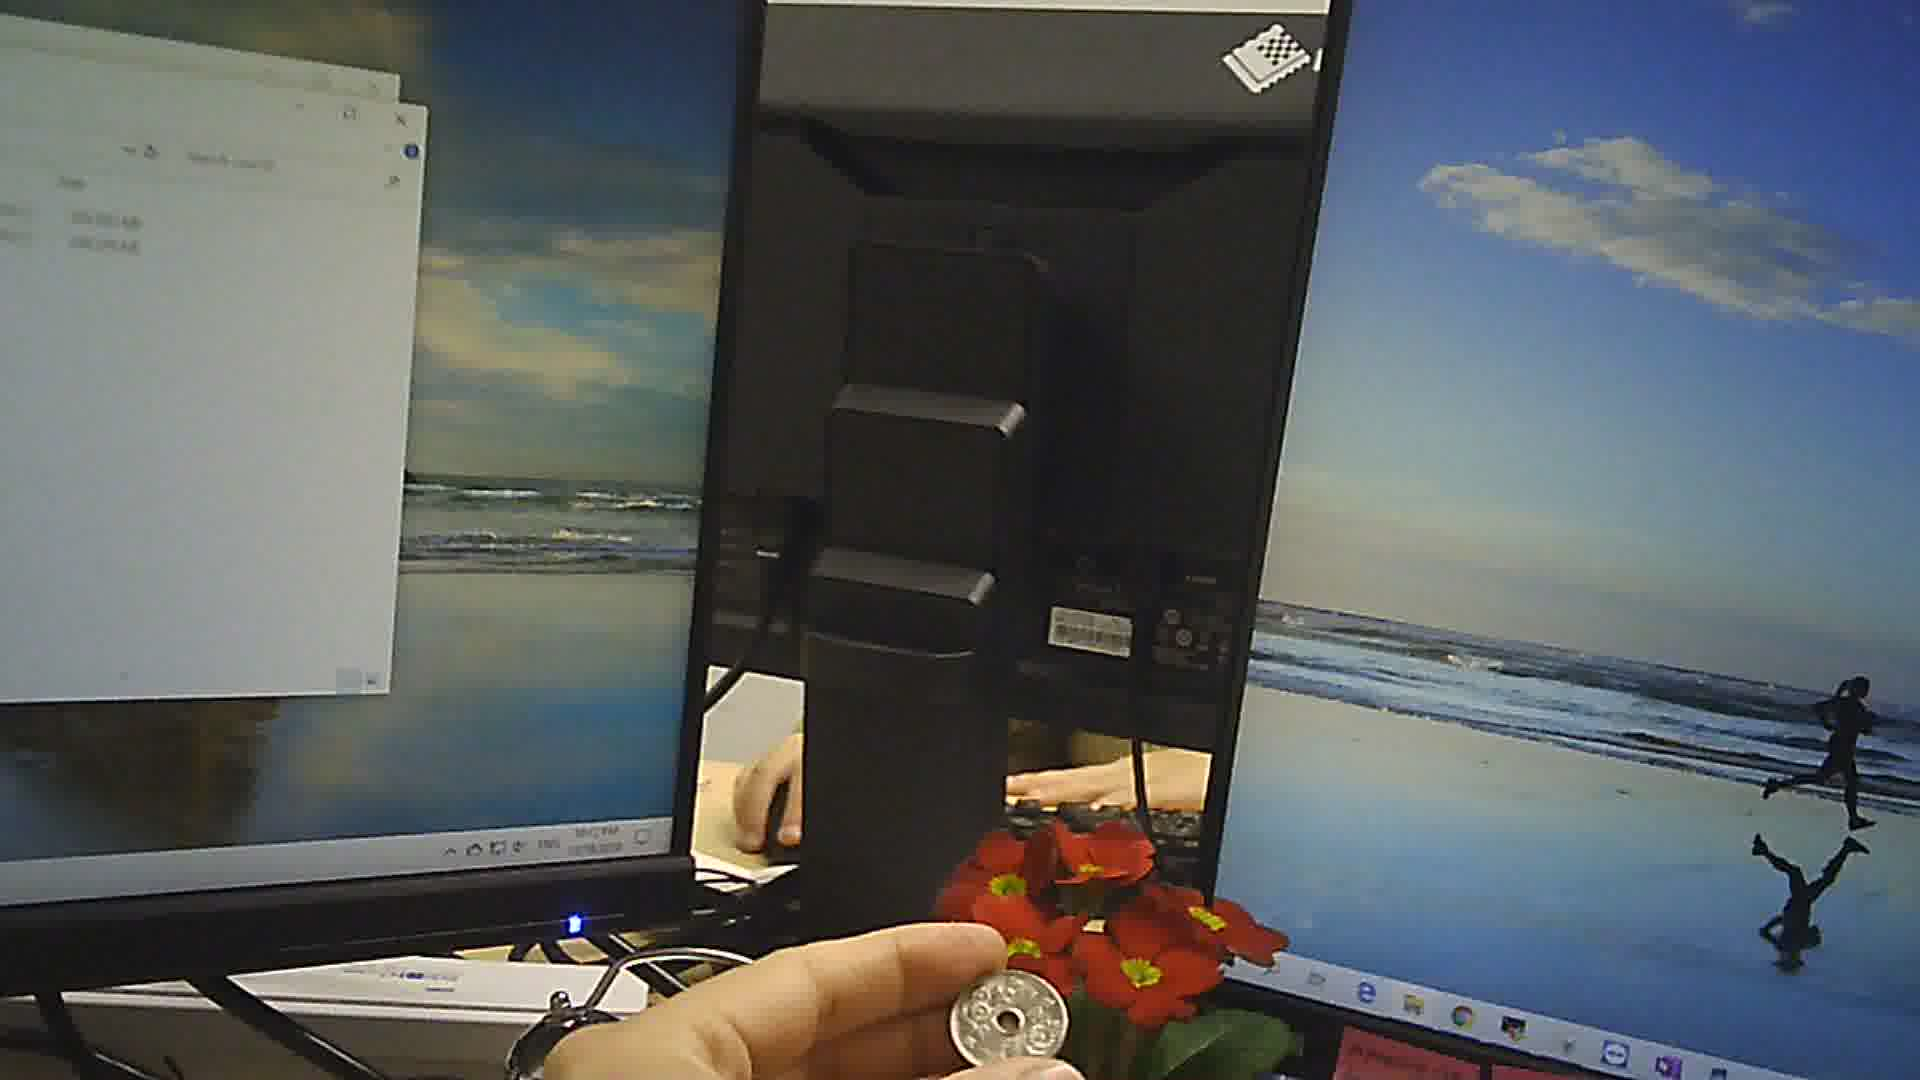50 Yen: (945, 965, 1068, 1079)
